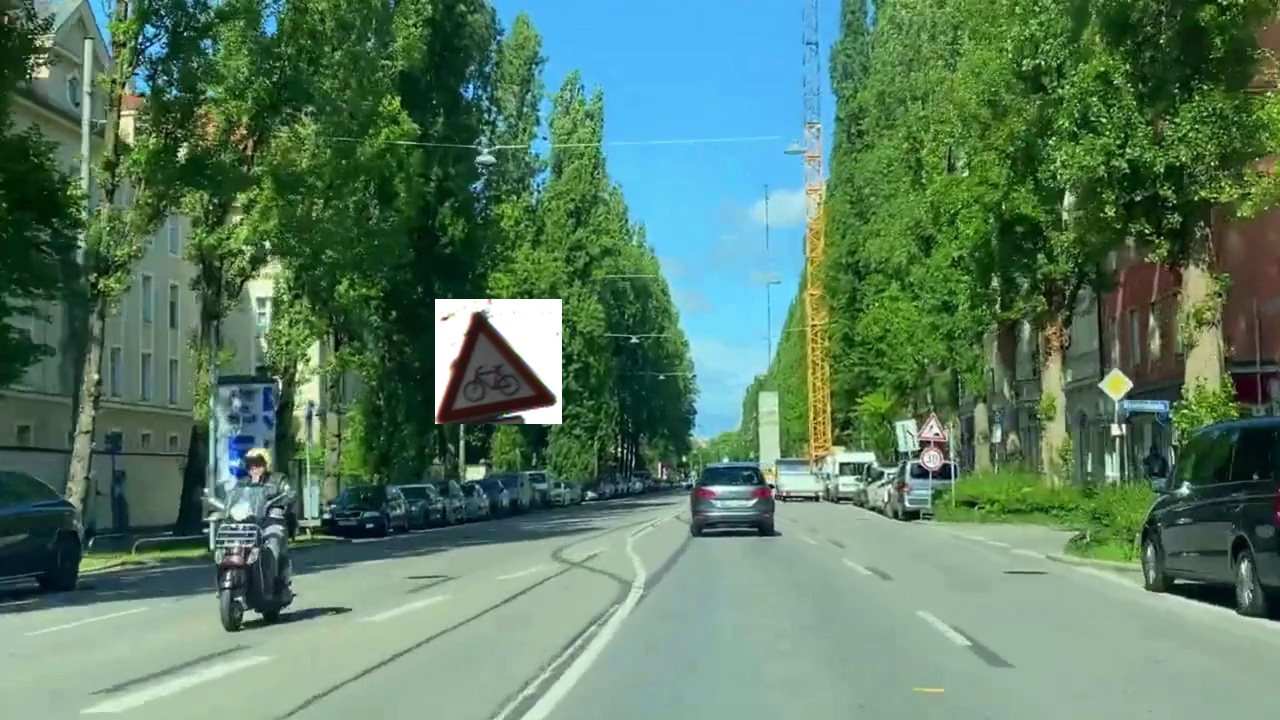Bicycles: (435, 299, 562, 424)
